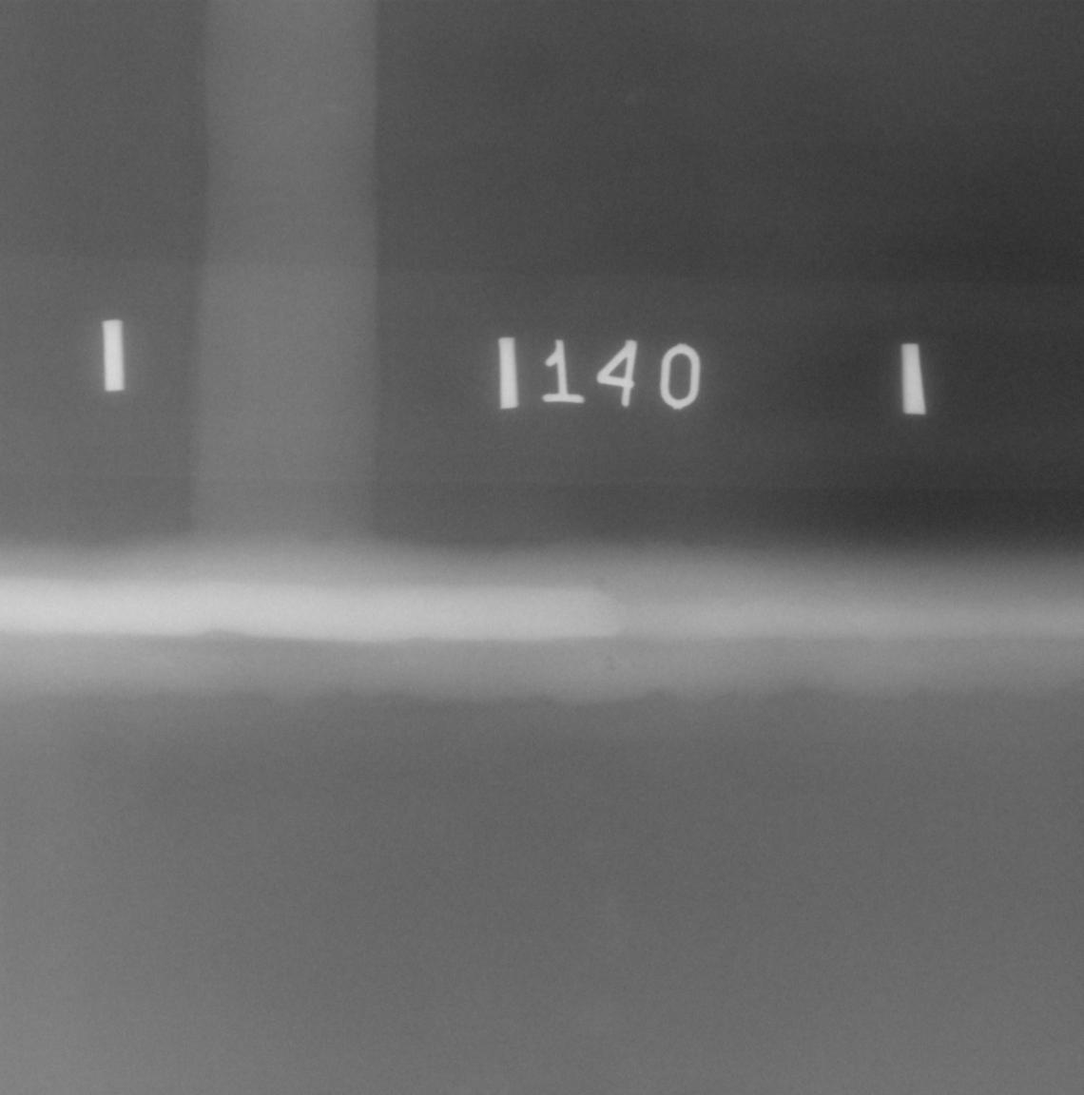Pore/Porosity: (604, 657, 615, 671)
